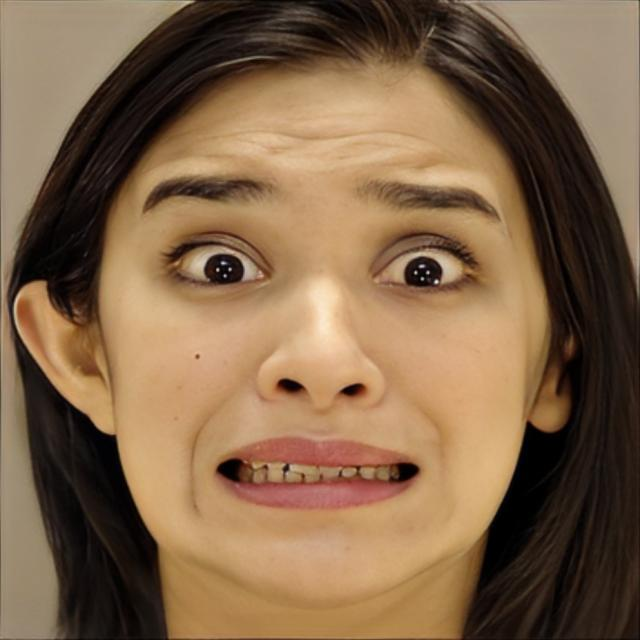Fear: (93, 28, 546, 620)
